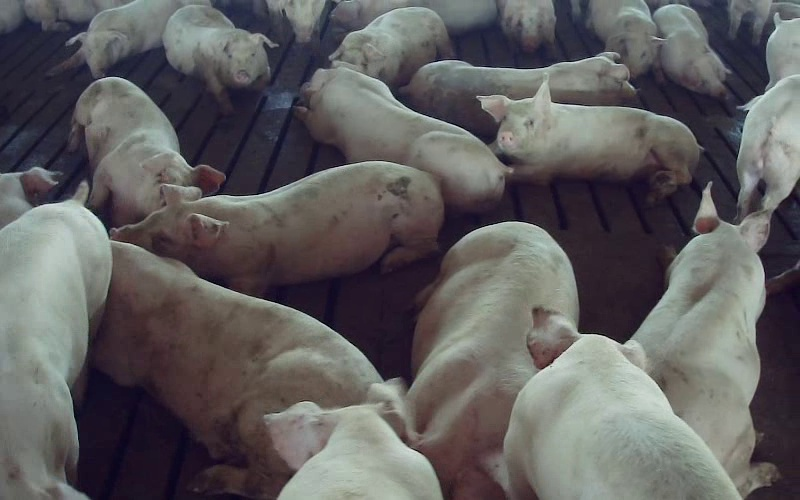pig: (90, 242, 381, 495), (406, 222, 577, 499), (504, 308, 740, 499), (633, 184, 777, 495), (0, 183, 111, 499), (295, 61, 510, 211), (477, 80, 701, 202), (70, 77, 223, 226), (264, 379, 441, 499), (399, 52, 635, 138), (163, 5, 276, 114), (329, 7, 454, 87), (737, 74, 799, 221), (653, 4, 729, 96), (586, 0, 663, 82), (331, 0, 496, 34), (497, 0, 555, 52)
